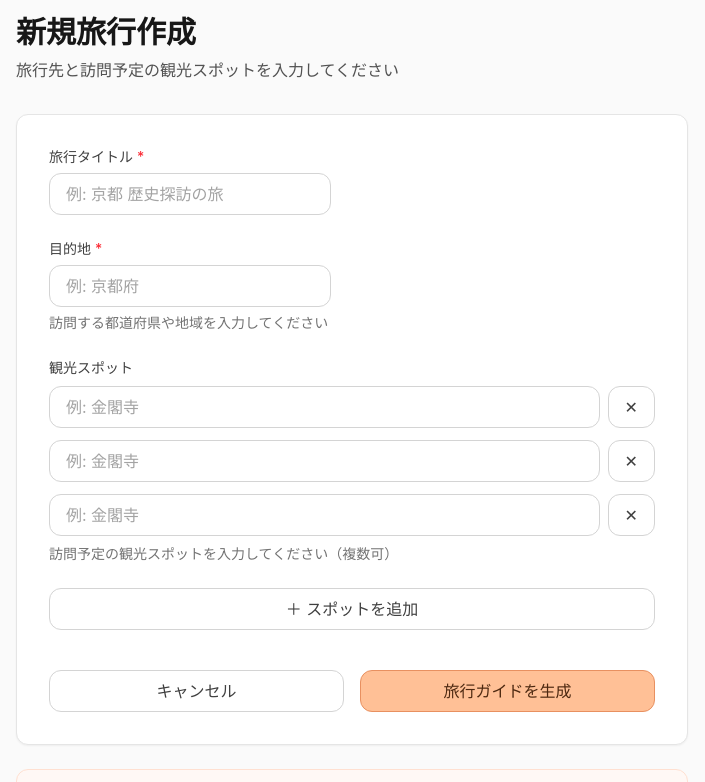
it: TravelNewPage › バリデーション › 目的地が空の場合はエラーツールチップが表示される
In the field with placeholder "例: 京都 歴史探訪の旅": (190, 194) [49, 173, 331, 215], type "京都歴史探訪の旅"
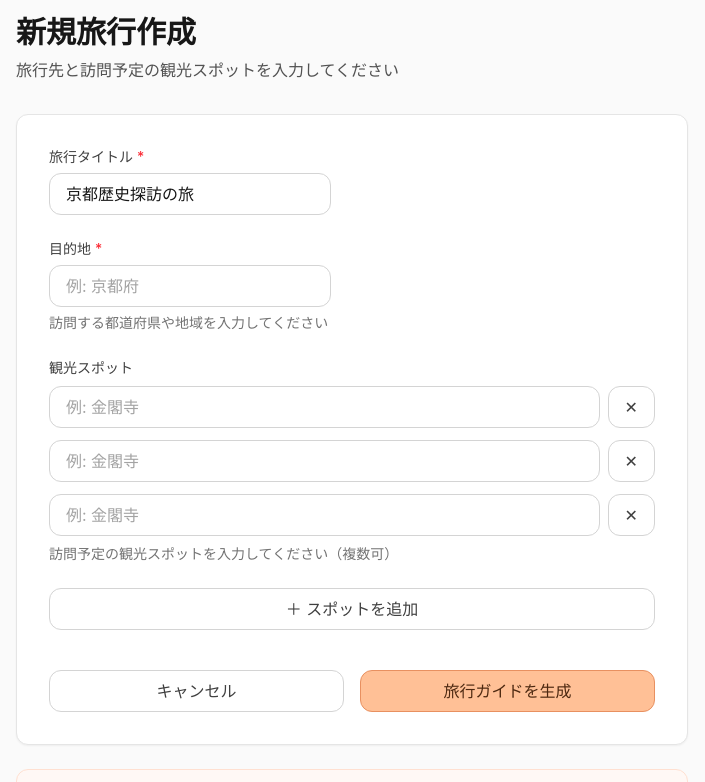
Click the button "旅行ガイドを生成": (508, 691) [360, 670, 655, 712]
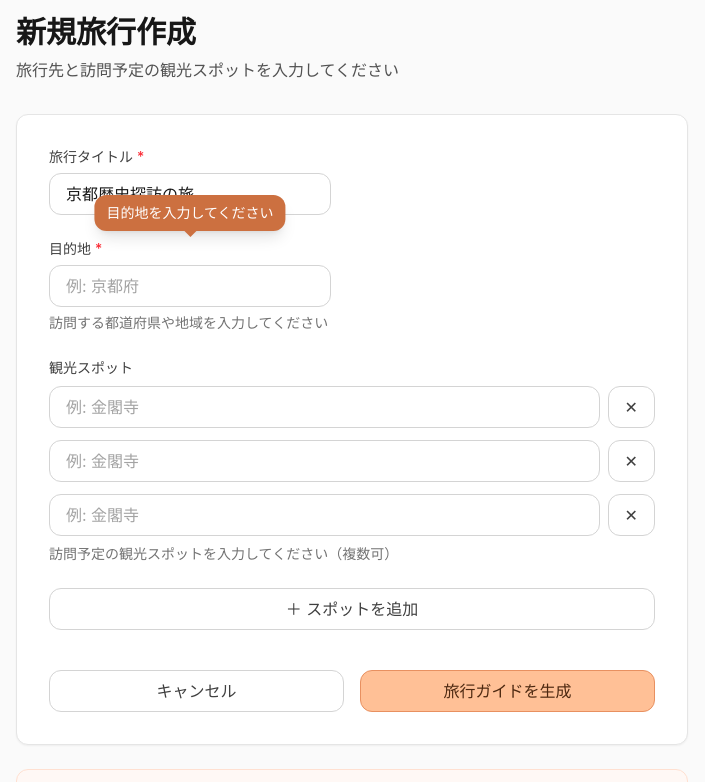
Now the tooltip "目的地を入力してください" is shown, box [94, 195, 286, 231]
